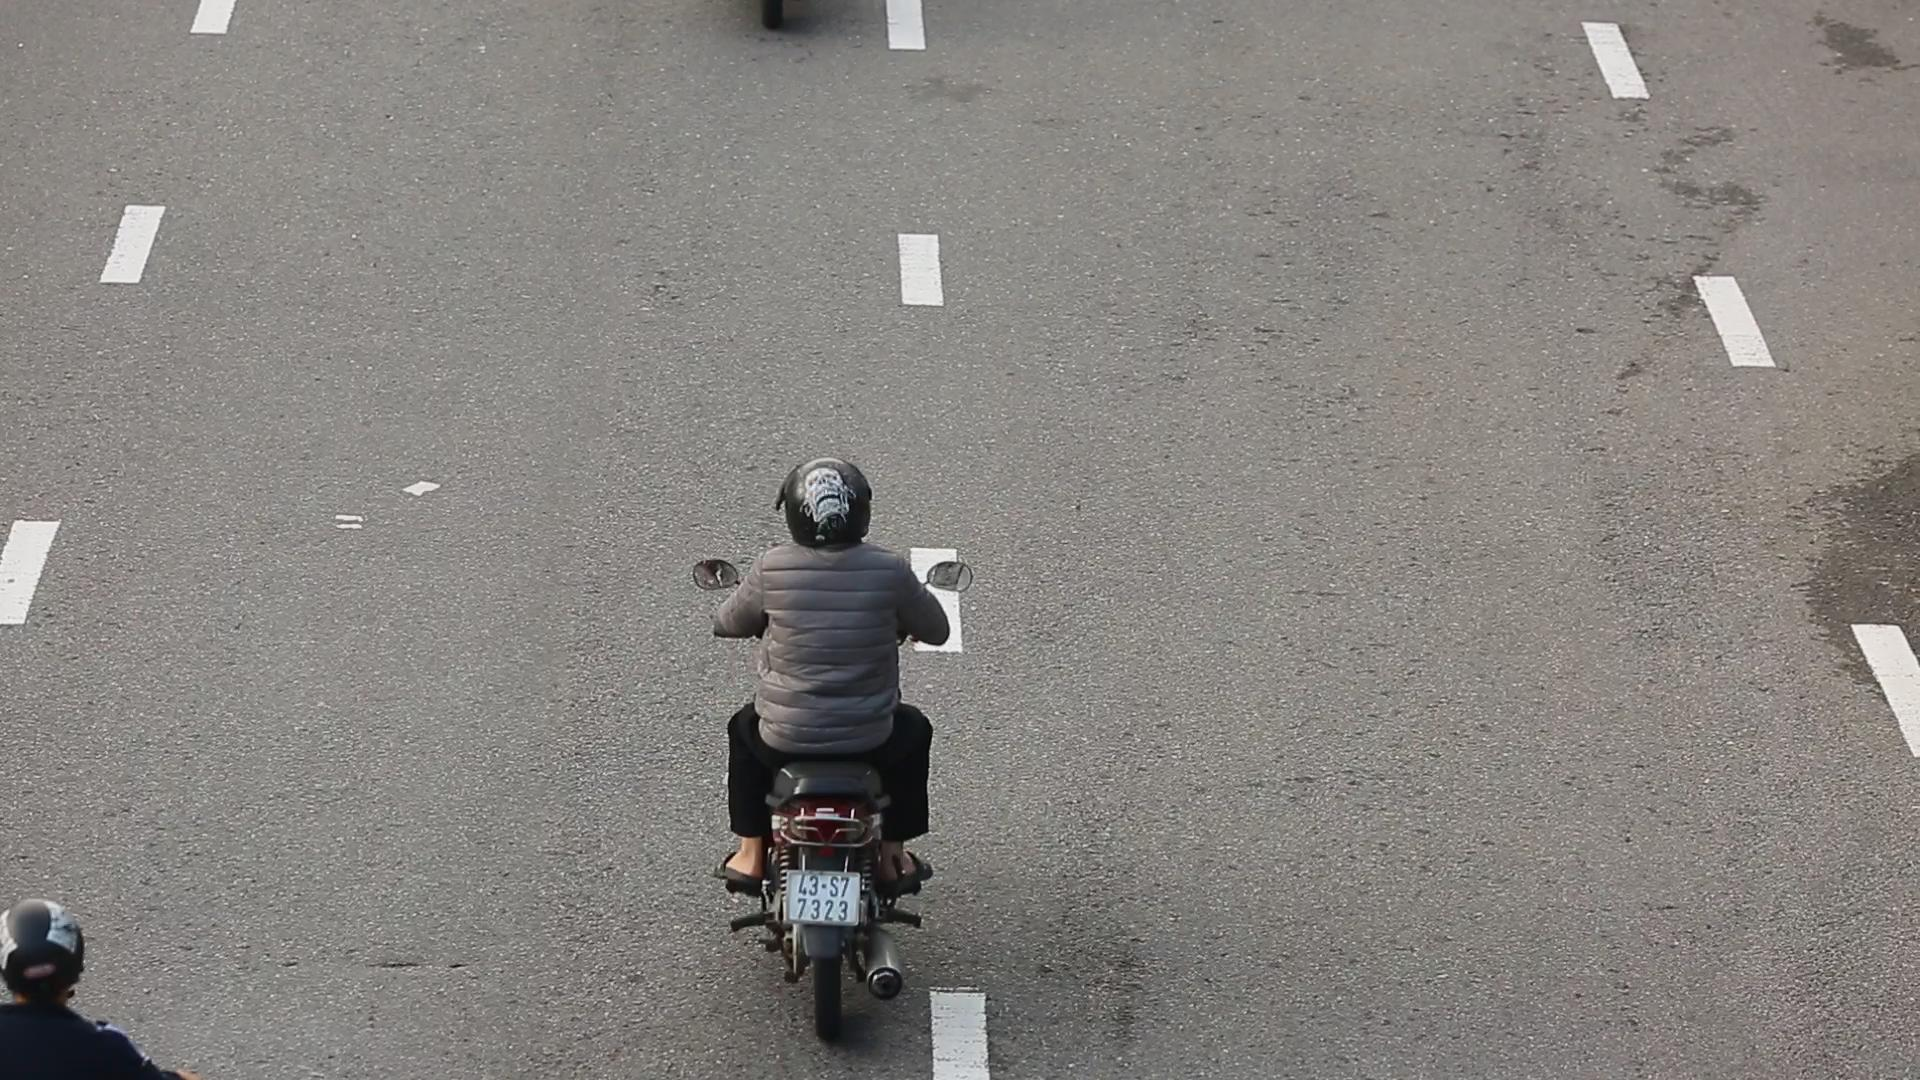motobike: (707, 447, 959, 1047)
